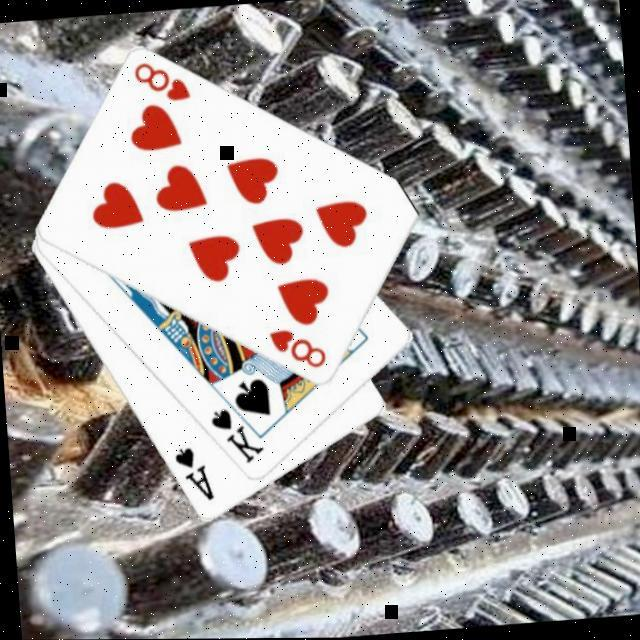8H: (266, 324, 333, 376), (131, 56, 196, 108)
AS: (172, 442, 219, 507)
KS: (208, 403, 270, 471)
